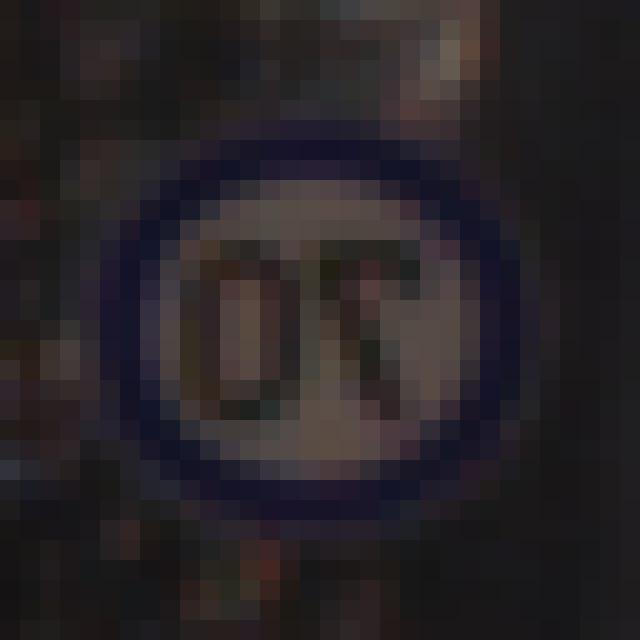SPEED LIMIT 70: (93, 137, 536, 544)
